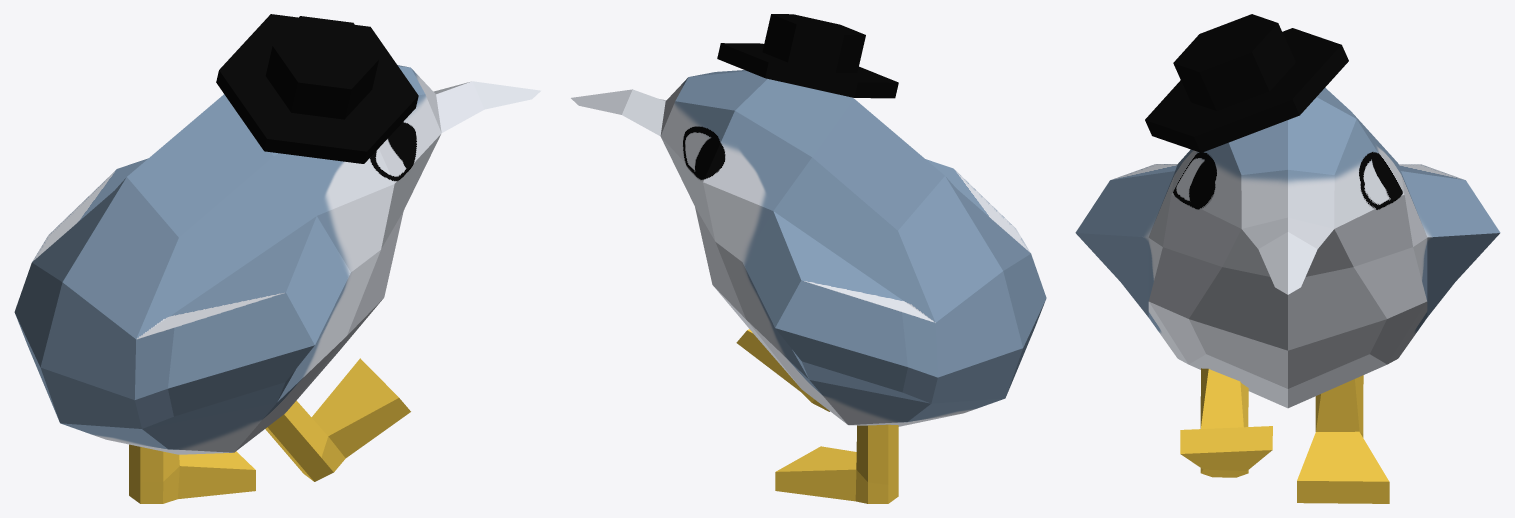
File: Char_Bird3.fbx
3 views of the same model, side by side, from view 1: azimuth 30°, elevation 25°; view 2: azimuth 150°, elevation 25°; view 3: azimuth 270°, elevation 25° (orthographic). The views are drawn at different scales.
Parts seen in each view (by area): view 1: 立方体.003, 柱体.002, 柱体.001, 柱体; view 2: 立方体.003, 柱体.002, 柱体, 柱体.001; view 3: 立方体.003, 柱体.002, 柱体, 柱体.001.
Boxes of the visible parts, x1,y1,x2,y2 form: 立方体.003: (14, 65, 540, 454); 柱体.002: (216, 14, 418, 163); 柱体.001: (265, 358, 410, 481); 柱体: (129, 444, 255, 503); 立方体.003: (571, 70, 1046, 426); 柱体.002: (717, 14, 898, 98); 柱体: (775, 424, 898, 503); 柱体.001: (736, 329, 829, 411); 立方体.003: (1075, 87, 1500, 408); 柱体.002: (1145, 14, 1348, 152); 柱体: (1297, 375, 1389, 503); 柱体.001: (1180, 368, 1272, 477).
Bounding box in the file's own units: 256 × 231 × 179.
3 materials, 1 textured.
